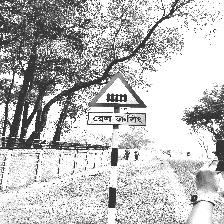Rail-crossing: (87, 73, 148, 126)
